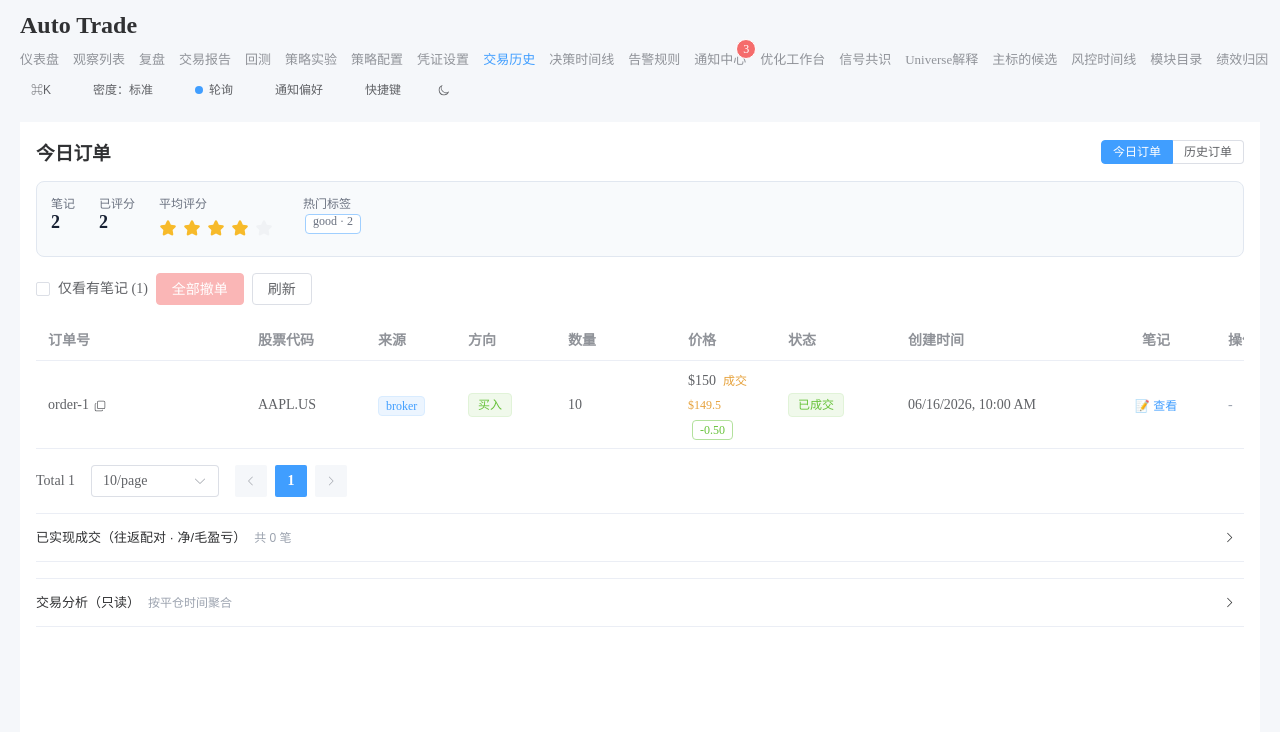
Test: Closed round-trip trades › shows empty state when no round trips are paired
Click the button "已实现成交（往返配对 · 净/毛盈亏） 共 0 笔" at (141, 537), box 36,514 -> 1244,562
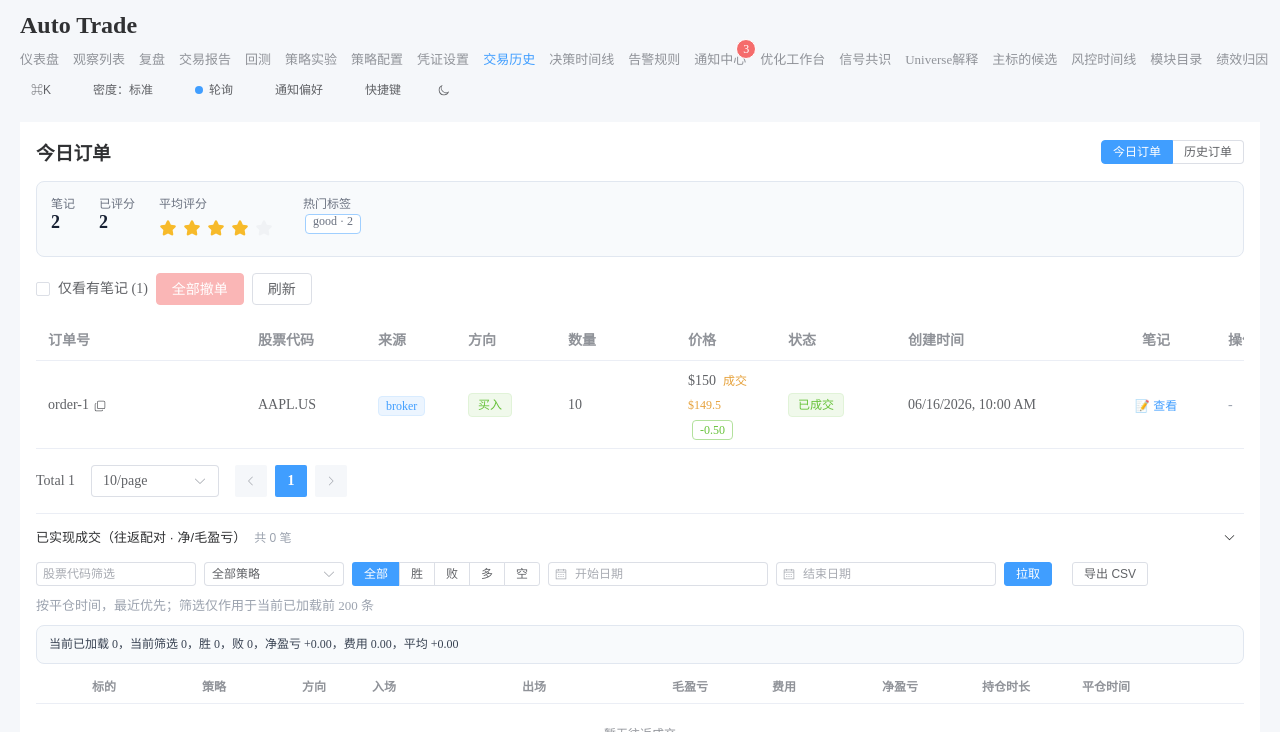
Expected: the element with test id "roundtrips-table" is shown, 36,672 -> 1244,731
Expected: the text with test id "roundtrips-table" reads "暂无往返成交", 604,727 -> 676,731
